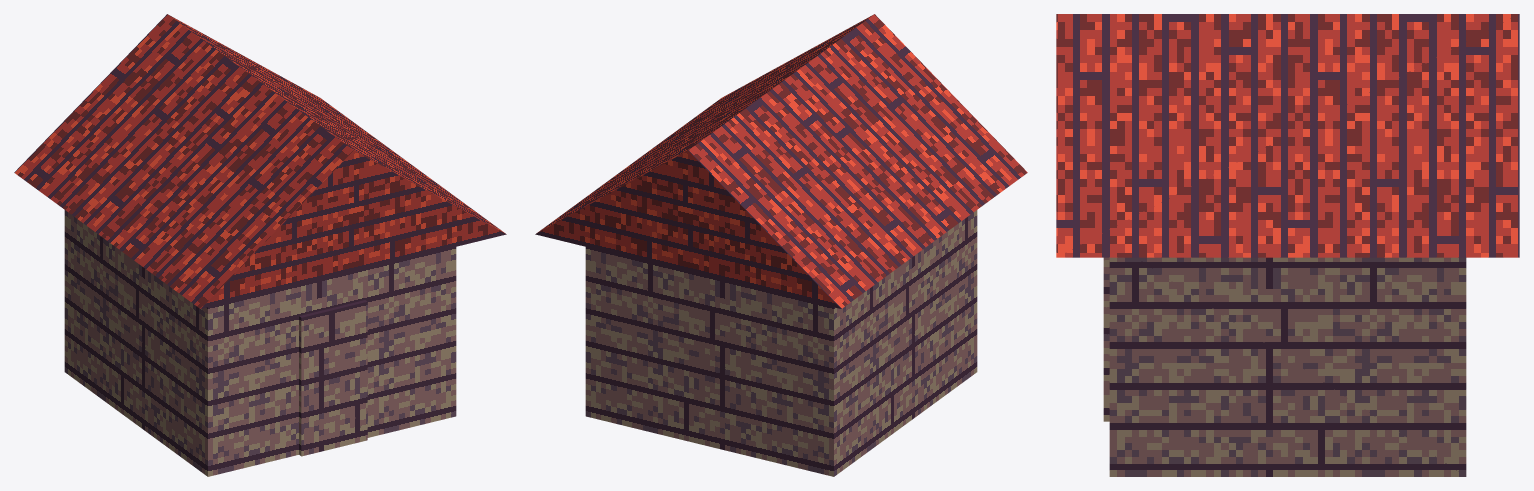
File: a97_casa_com_numero.glb
3 views of the same model, side by side, from view 1: azimuth 30°, elevation 25°; view 2: azimuth 150°, elevation 25°; view 3: azimuth 270°, elevation 25° (orthographic). The views are drawn at different scales.
Visible parts, largest first — view 1: a97_casa_com_numero; view 2: a97_casa_com_numero; view 3: a97_casa_com_numero.
Boxes of the visible parts, x1,y1,x2,y2 form: a97_casa_com_numero: (14, 14, 506, 476); a97_casa_com_numero: (535, 14, 1027, 476); a97_casa_com_numero: (1056, 14, 1519, 476).
Size of the model in its own units: 3.7 by 3.6 by 3.9.
2 materials, 2 textured.
